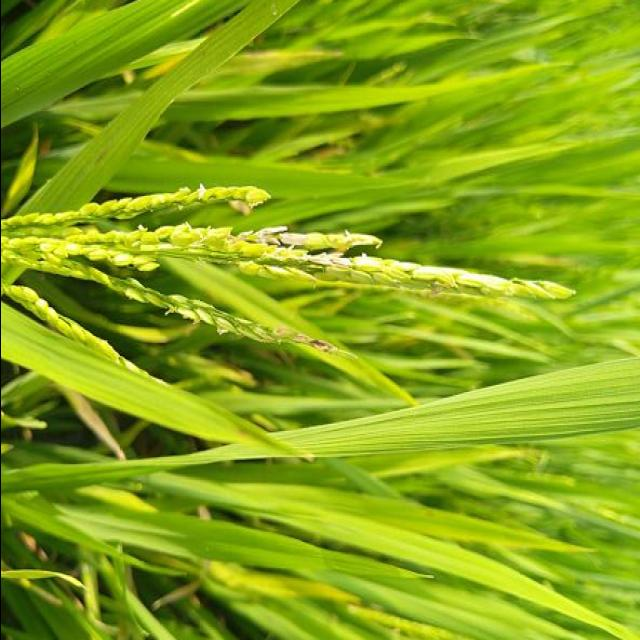Panicle Blight: (235, 225, 512, 298), (269, 324, 335, 355)
